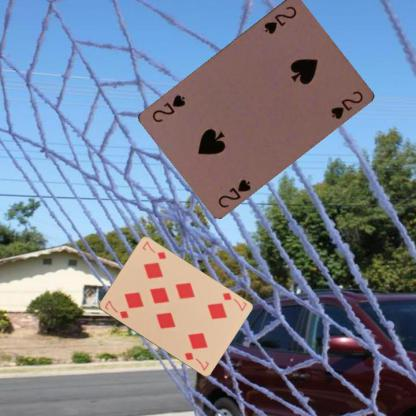2s: (215, 176, 252, 209), (261, 3, 298, 35)
7d: (219, 290, 248, 312), (102, 298, 129, 320)
